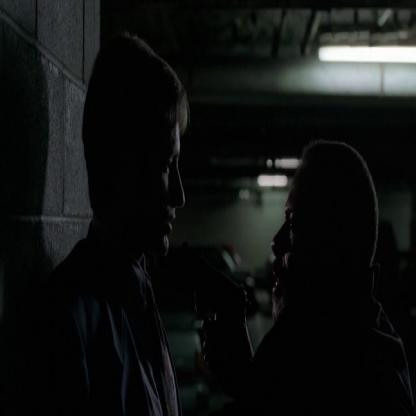Guns: (176, 238, 249, 390)
